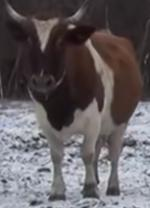cow: (4, 0, 143, 201)
